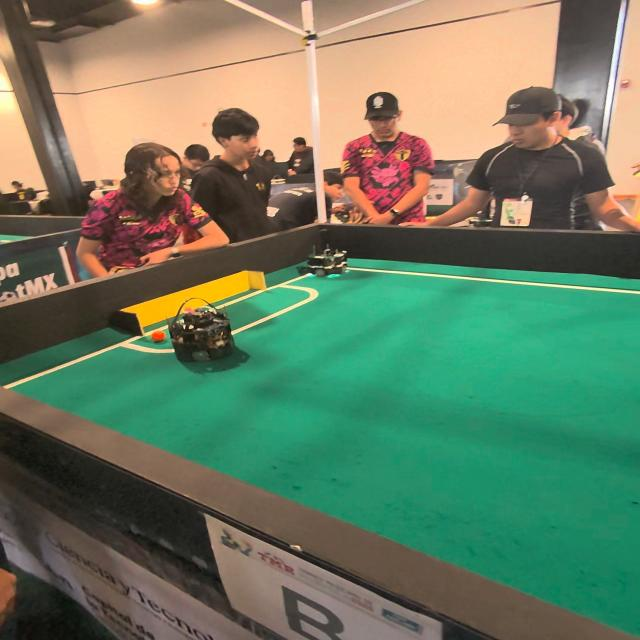Robot: (169, 301, 240, 370), (304, 222, 354, 280)
pelota: (146, 333, 163, 343)
